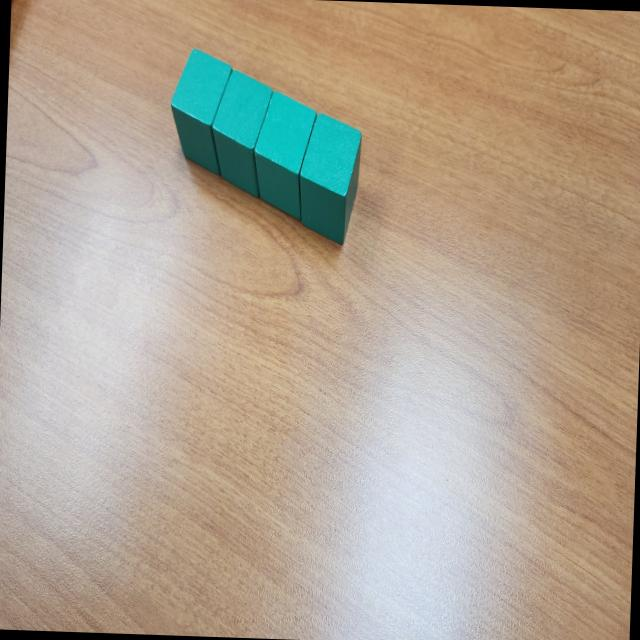green: (250, 89, 318, 222), (296, 112, 362, 246), (168, 48, 233, 178), (210, 67, 274, 199)
